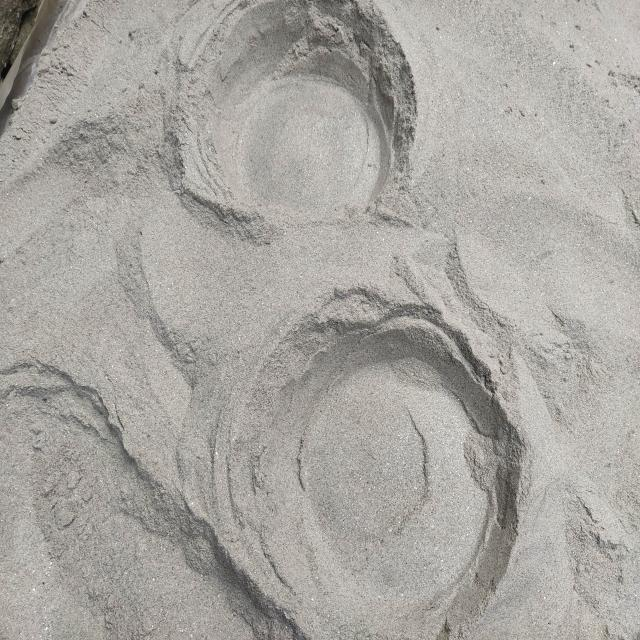C20: (182, 293, 520, 637), (196, 2, 414, 218)
